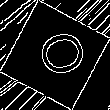O_W: (24, 27, 86, 83)
